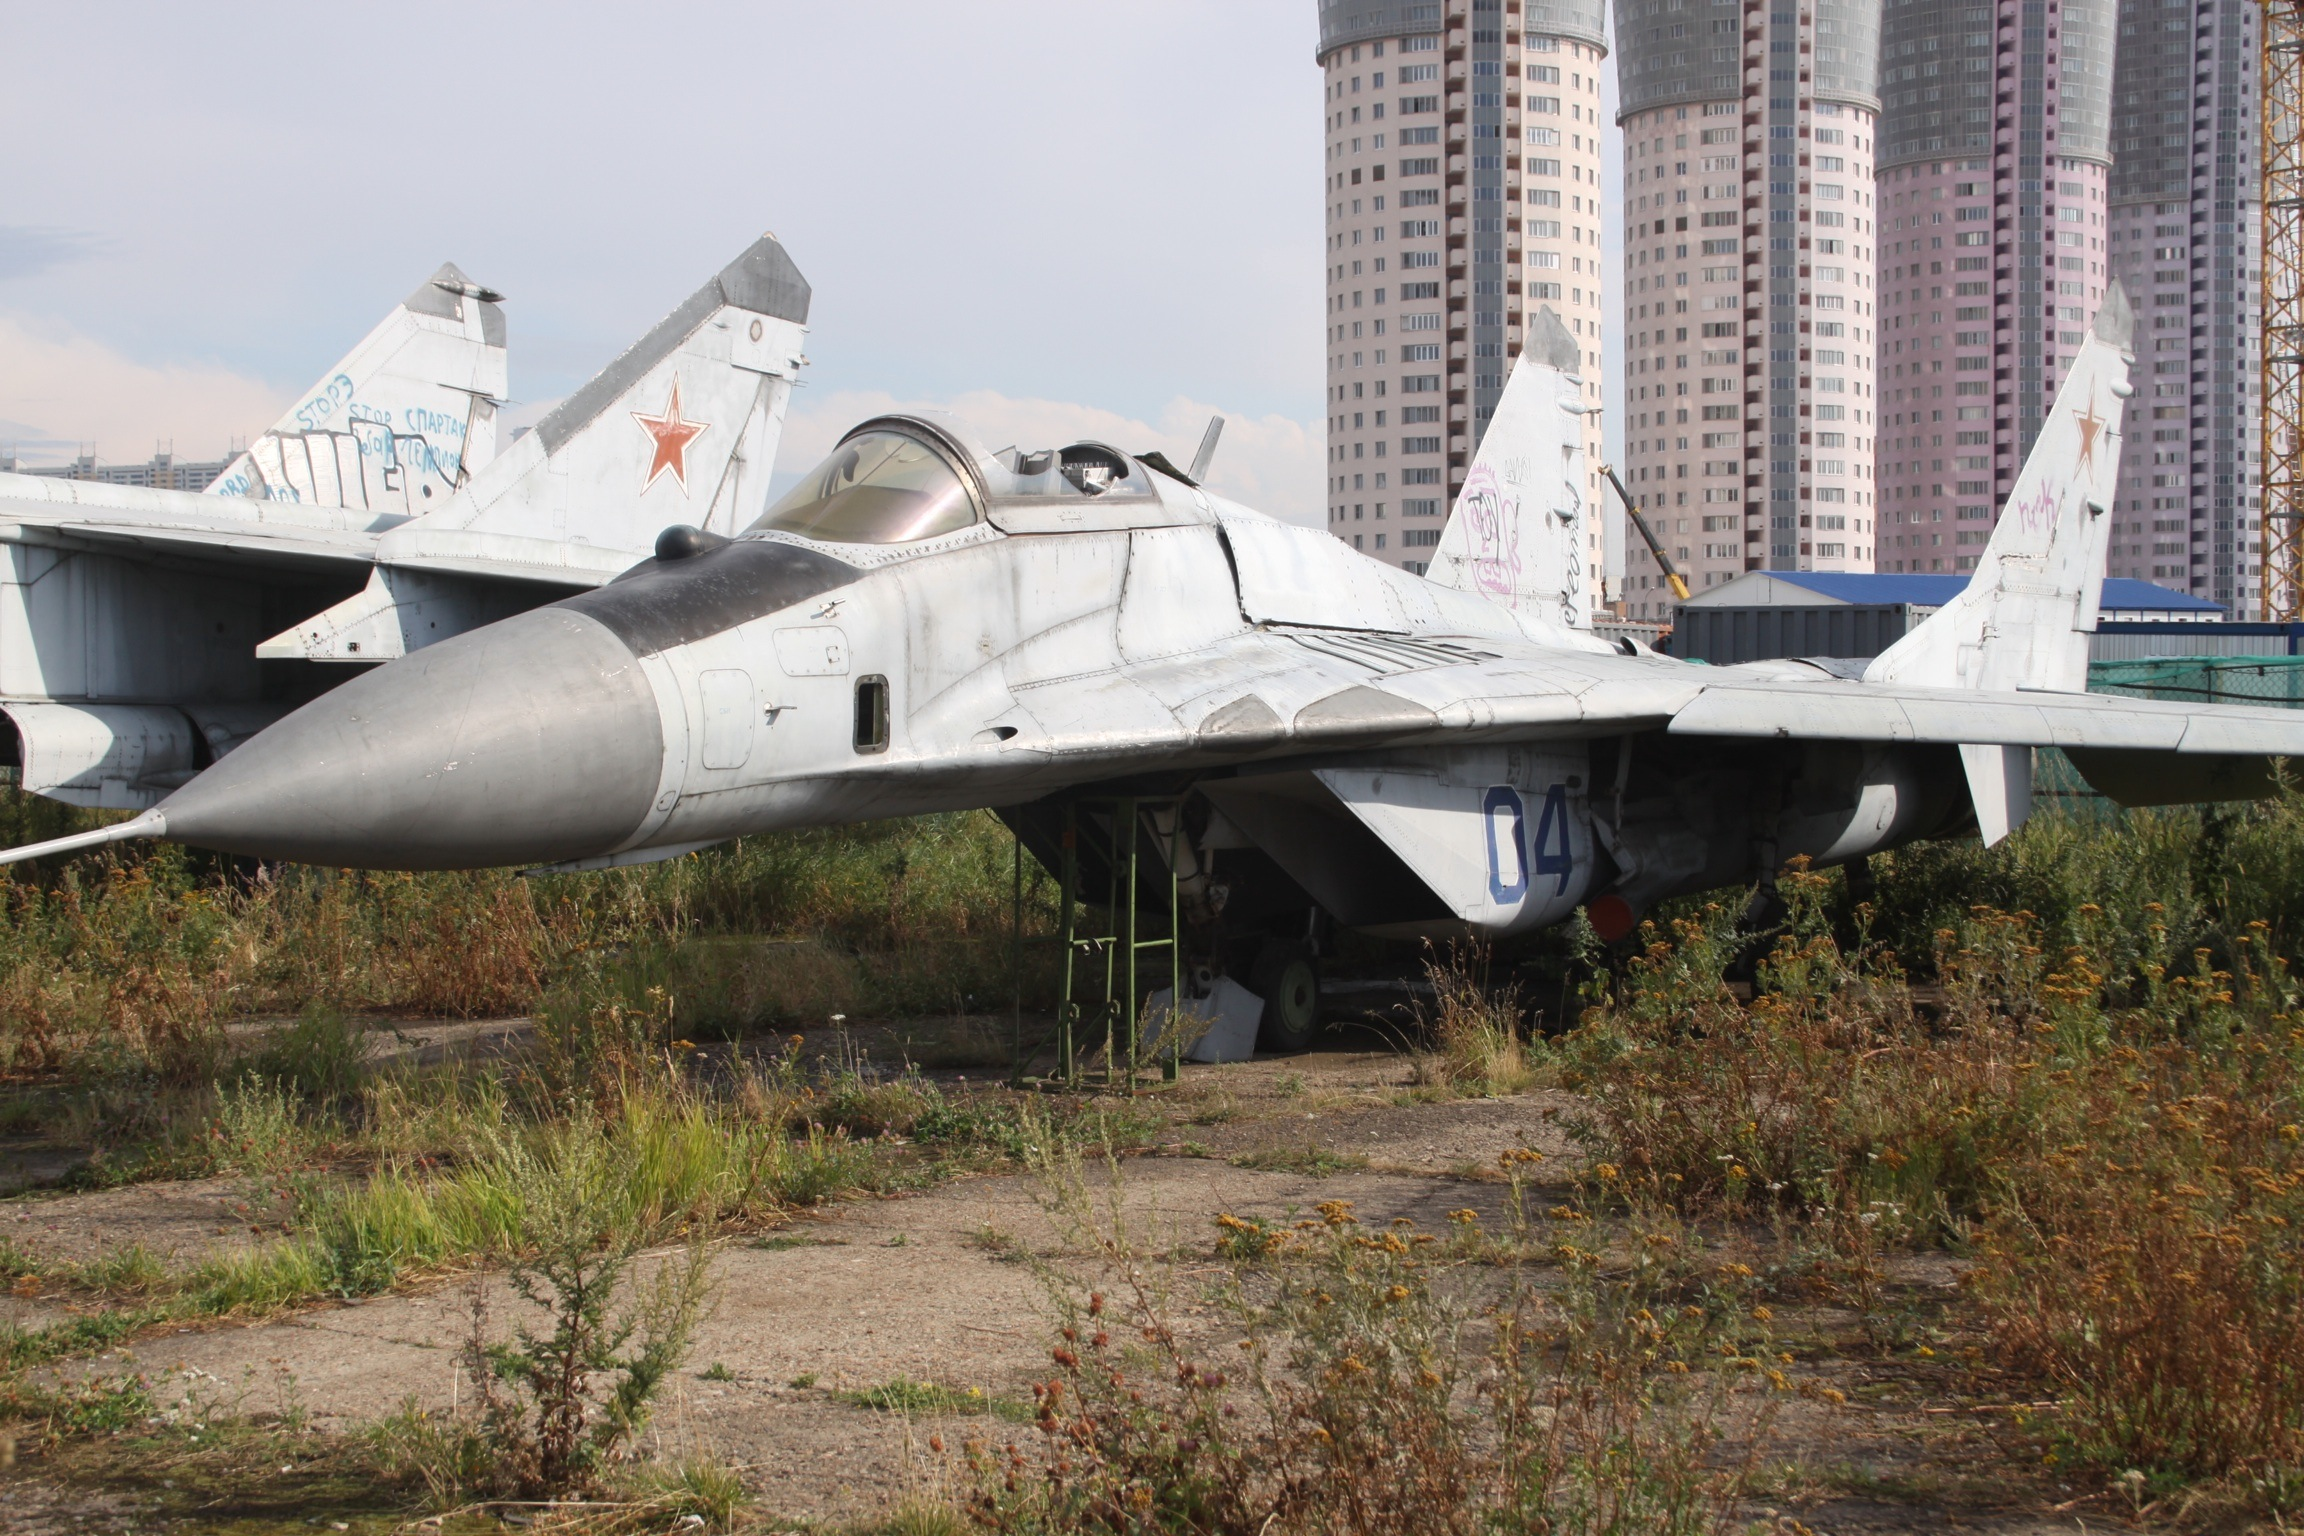Mig-29: (142, 315, 2189, 993)
